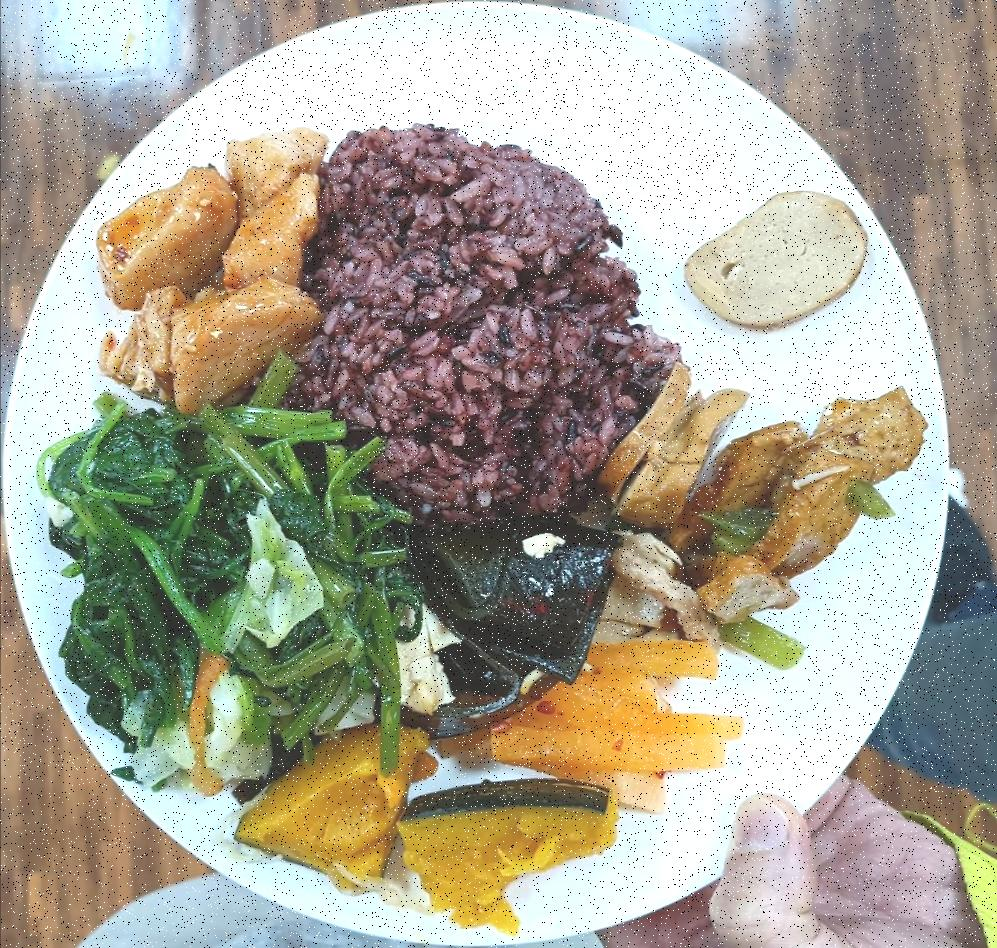big fried chicken leg: (0, 4, 968, 948)
braised fish: (312, 119, 658, 512)
braised fish fillet: (35, 388, 408, 788), (606, 180, 914, 618), (233, 726, 624, 938), (403, 516, 716, 727), (476, 640, 748, 778)
braised pork: (85, 116, 336, 416)
